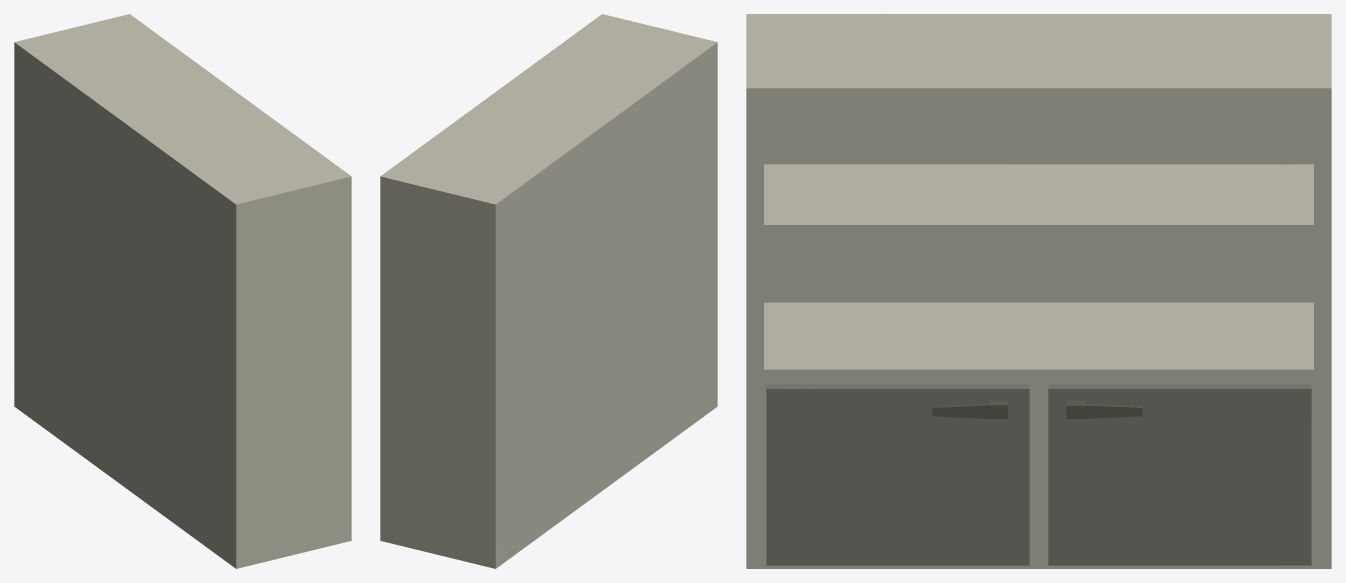
Rendered from cabinet2.glb.
3 renders of one model, left to right at view 1: azimuth 30°, elevation 25°; view 2: azimuth 150°, elevation 25°; view 3: azimuth 270°, elevation 25°, orthographic. The views are drawn at different scales.
Visible parts, largest first — view 1: Cabinet2-material; view 2: Cabinet2-material; view 3: Cabinet2-material.
Boxes of the visible parts, x1,y1,x2,y2 form: Cabinet2-material: (14,14,351,568); Cabinet2-material: (380,14,717,568); Cabinet2-material: (746,14,1331,568).
Bounding box in the file's own units: 0.0684 × 0.1816 × 0.2005.
1 material, 1 textured.
